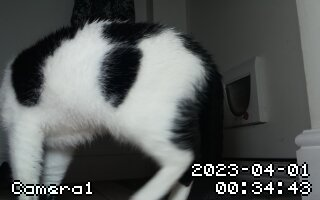bad: (3, 20, 225, 196)
